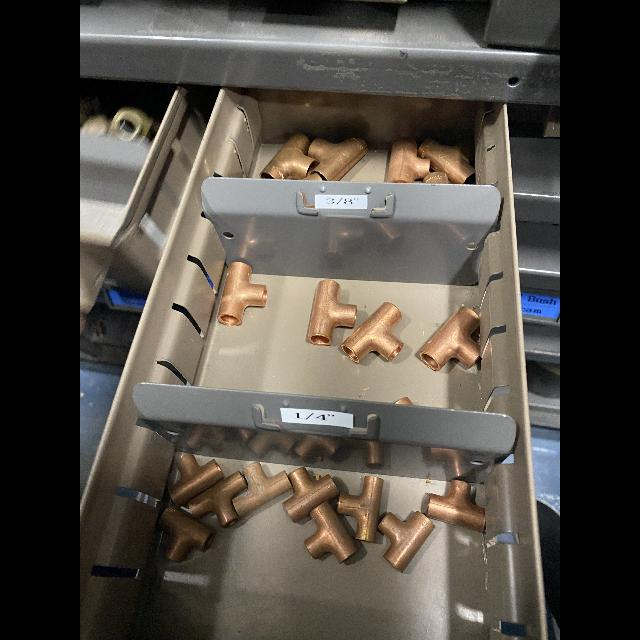Copper: (419, 306, 480, 370), (341, 302, 403, 362), (378, 511, 435, 572), (304, 501, 360, 563), (306, 280, 357, 346), (187, 471, 247, 527), (232, 462, 292, 517), (336, 475, 383, 542), (283, 467, 339, 523), (218, 262, 267, 326), (426, 480, 485, 532), (158, 509, 215, 562), (168, 454, 224, 507), (260, 134, 317, 179), (418, 139, 475, 184), (308, 138, 367, 181), (386, 138, 430, 183), (423, 171, 450, 184), (305, 171, 322, 181)
